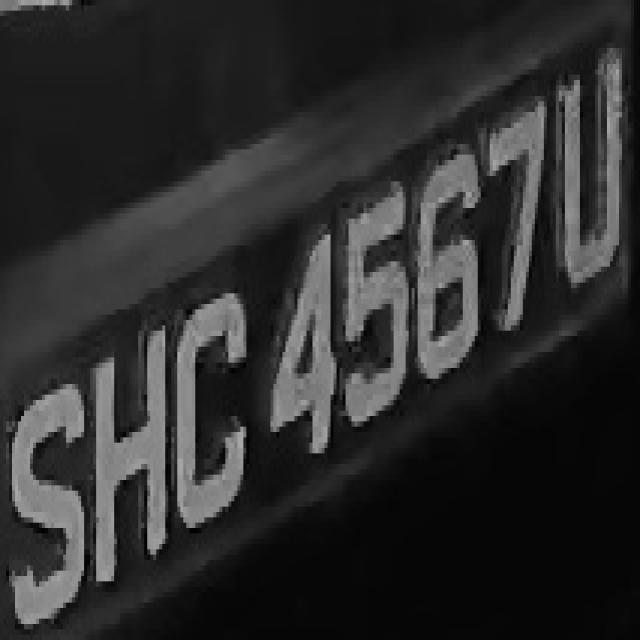4: (264, 202, 342, 474)
5: (342, 165, 412, 448)
6: (408, 138, 484, 394)
7: (475, 106, 550, 362)
C: (172, 277, 256, 534)
H: (84, 298, 171, 586)
S: (9, 352, 84, 635)
U: (550, 54, 631, 294)
